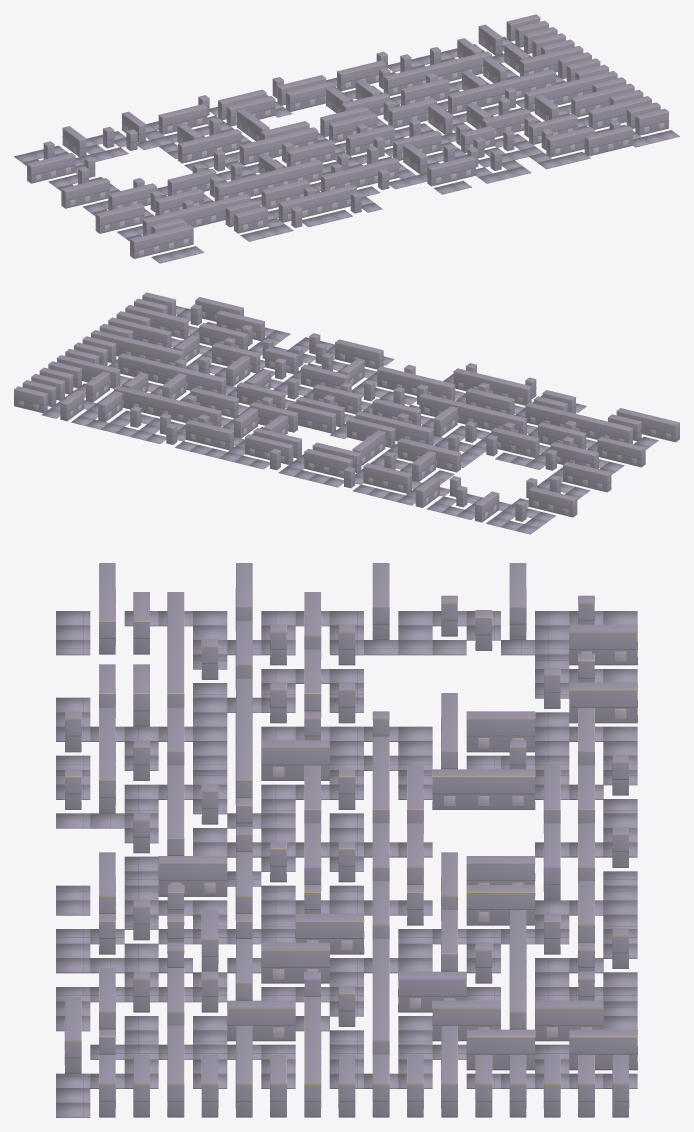
The model's file is castle_district_ward_north_cursed.glb.
3 views of the same model, one above another, from view 1: azimuth 30°, elevation 25°; view 2: azimuth 150°, elevation 25°; view 3: azimuth 270°, elevation 25° (orthographic). The views are drawn at different scales.
Parts seen in each view (by area): view 1: castle_district_ward_north_cursed_surface; view 2: castle_district_ward_north_cursed_surface; view 3: castle_district_ward_north_cursed_surface.
Part boxes in pixels (x1,y1,x2,y2): castle_district_ward_north_cursed_surface: (14,14,679,263); castle_district_ward_north_cursed_surface: (14,292,679,534); castle_district_ward_north_cursed_surface: (56,563,637,1117).
Size of the model in its own units: 180 by 5.56 by 85.04.
